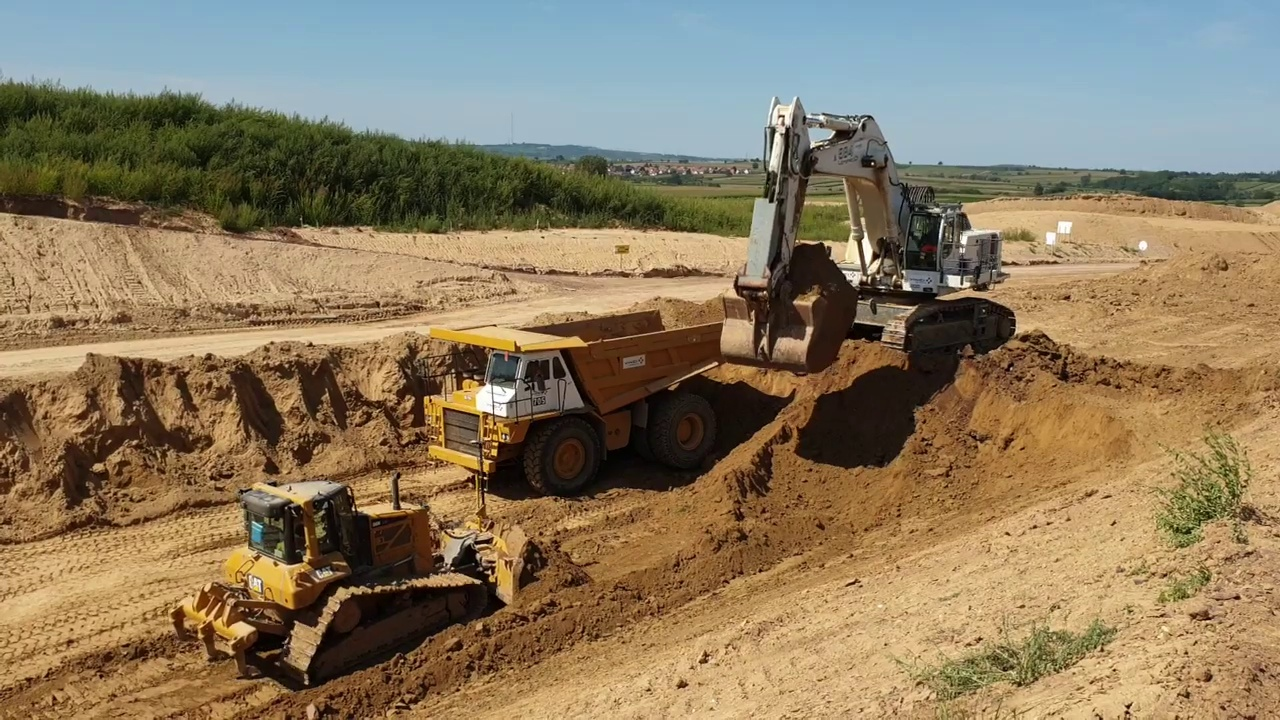bulldozer: (164, 436, 537, 692)
excavator: (718, 88, 1019, 385)
truck: (406, 305, 742, 502)
